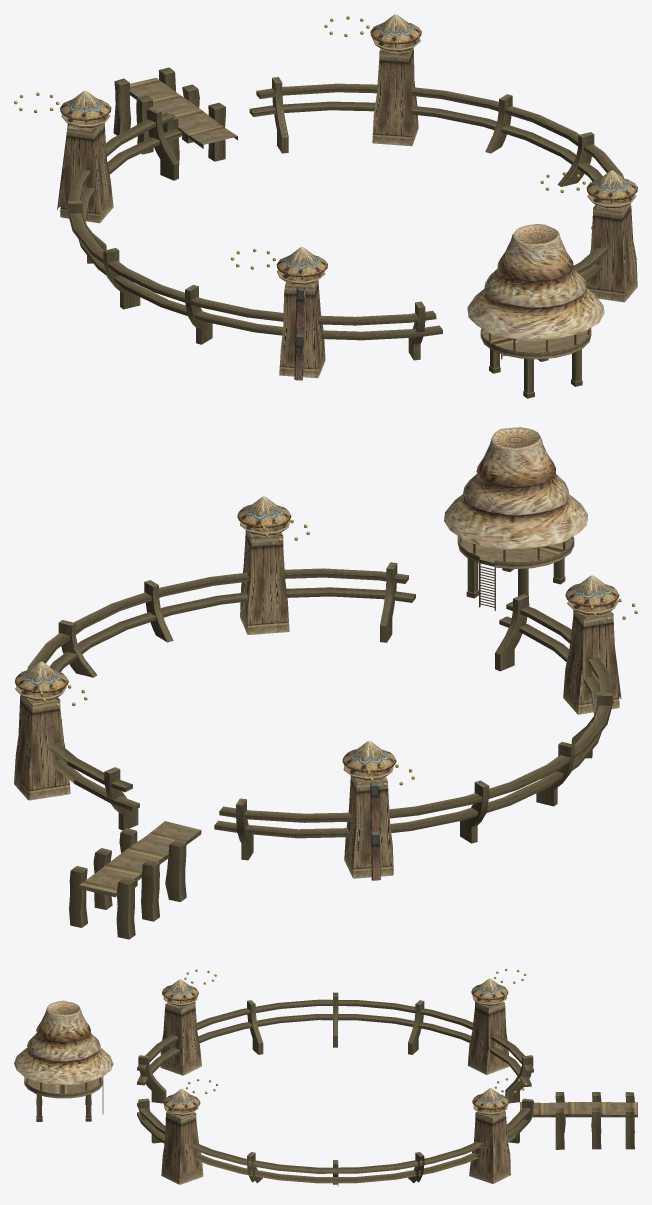
File: cen_t.obj
The picture shows the model from 3 angles, top to bottom: view 1: azimuth 30°, elevation 25°; view 2: azimuth 150°, elevation 25°; view 3: azimuth 270°, elevation 25°; orthographic projection. The views are drawn at different scales.
Parts seen in each view (by area): view 1: cen_ring_a_0, l_kasa_1, cen_ring_b_0, c_buil2_1, c_buil3_1, c_buil4_2, c_buil1_2, hashi_base_0, hasihasi_0, buil_flor_0, rof_3_0, rof_6_0 (+5 smaller); view 2: cen_ring_a_0, cen_ring_b_0, l_kasa_1, hashi_base_0, c_buil3_1, c_buil2_1, c_buil1_2, c_buil4_2, hasihasi_0, buil_flor_0, rof_7_0, rof_5_0 (+5 smaller); view 3: cen_ring_a_0, cen_ring_b_0, l_kasa_1, c_buil3_1, c_buil2_1, c_buil1_2, c_buil4_2, hashi_base_0, hasihasi_0, buil_flor_0, rof_5_0, rof_3_0 (+4 smaller).
Boxes of the visible parts, <box> form: cen_ring_a_0: <box>67,107,442,360</box>; l_kasa_1: <box>467,224,604,340</box>; cen_ring_b_0: <box>249,77,624,283</box>; c_buil2_1: <box>586,194,637,302</box>; c_buil3_1: <box>372,37,420,146</box>; c_buil4_2: <box>60,114,113,223</box>; c_buil1_2: <box>277,270,325,378</box>; hashi_base_0: <box>113,67,225,164</box>; hasihasi_0: <box>130,78,237,144</box>; buil_flor_0: <box>482,330,589,352</box>; rof_3_0: <box>370,14,421,44</box>; rof_6_0: <box>586,170,637,200</box>; cen_ring_a_0: <box>214,594,613,860</box>; cen_ring_b_0: <box>22,562,415,830</box>; l_kasa_1: <box>444,427,587,549</box>; hashi_base_0: <box>69,828,186,939</box>; c_buil3_1: <box>14,686,70,800</box>; c_buil2_1: <box>240,520,289,634</box>; c_buil1_2: <box>563,600,619,714</box>; c_buil4_2: <box>343,765,393,878</box>; hasihasi_0: <box>79,821,200,896</box>; buil_flor_0: <box>459,538,572,562</box>; rof_7_0: <box>565,575,619,606</box>; rof_5_0: <box>342,741,396,772</box>; cen_ring_a_0: <box>137,992,533,1103</box>; cen_ring_b_0: <box>137,1098,533,1186</box>; l_kasa_1: <box>14,1000,113,1084</box>; c_buil3_1: <box>469,1105,510,1183</box>; c_buil2_1: <box>161,1105,203,1184</box>; c_buil1_2: <box>160,996,201,1075</box>; c_buil4_2: <box>467,995,509,1074</box>; hashi_base_0: <box>555,1092,634,1149</box>; hasihasi_0: <box>520,1102,637,1114</box>; buil_flor_0: <box>25,1076,102,1093</box>; rof_5_0: <box>471,978,508,1000</box>; rof_3_0: <box>472,1088,509,1109</box>.
Size of the model in its own units: 769 by 275 by 1181.
Materials: 12 (12 with a texture image).
